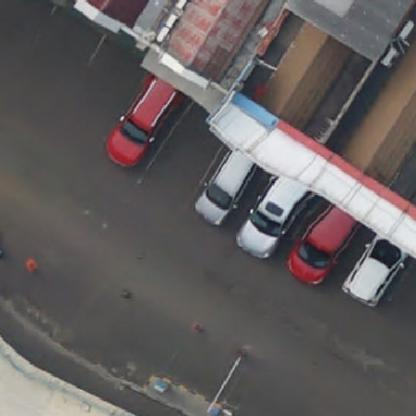car: (290, 200, 354, 286), (112, 82, 176, 167), (239, 173, 303, 255), (202, 140, 251, 226), (347, 237, 404, 306)
